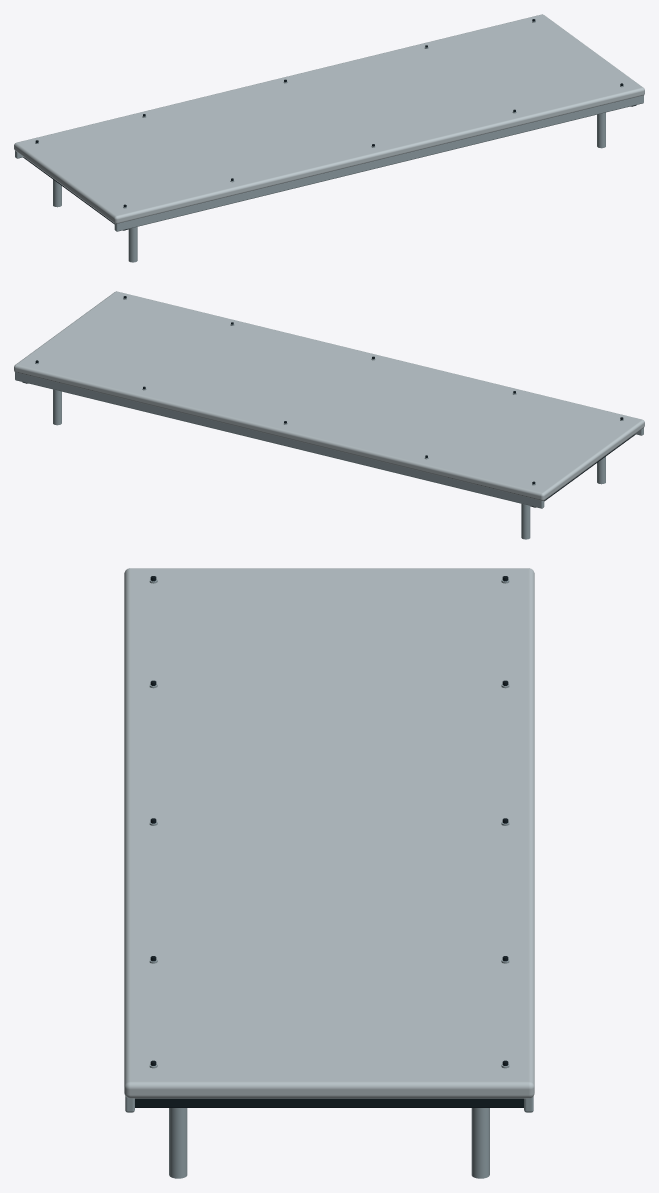
Rendered from platform.glb.
3 views of the same model, one above another, from view 1: azimuth 30°, elevation 25°; view 2: azimuth 150°, elevation 25°; view 3: azimuth 270°, elevation 25° (orthographic). The views are drawn at different scales.
Visible parts, largest first — view 1: satin-aluminium, stainless-steel; view 2: satin-aluminium, stainless-steel; view 3: satin-aluminium, black-anodised, stainless-steel.
Boxes of the visible parts, x1,y1,x2,y2 form: satin-aluminium: [14, 14, 644, 223]; stainless-steel: [15, 21, 643, 262]; satin-aluminium: [14, 291, 644, 500]; stainless-steel: [15, 298, 643, 539]; satin-aluminium: [124, 568, 534, 1098]; black-anodised: [135, 576, 523, 1107]; stainless-steel: [125, 579, 533, 1178].
Size of the model in its own units: 9.4 by 1.08 by 3.15.
